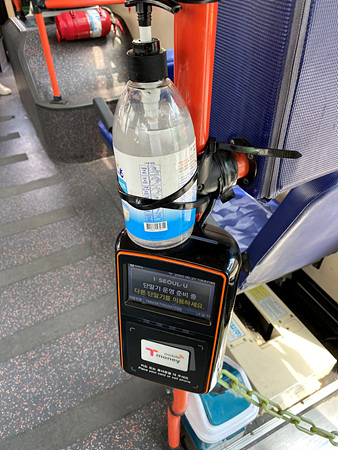terminal: (115, 228, 236, 392)
